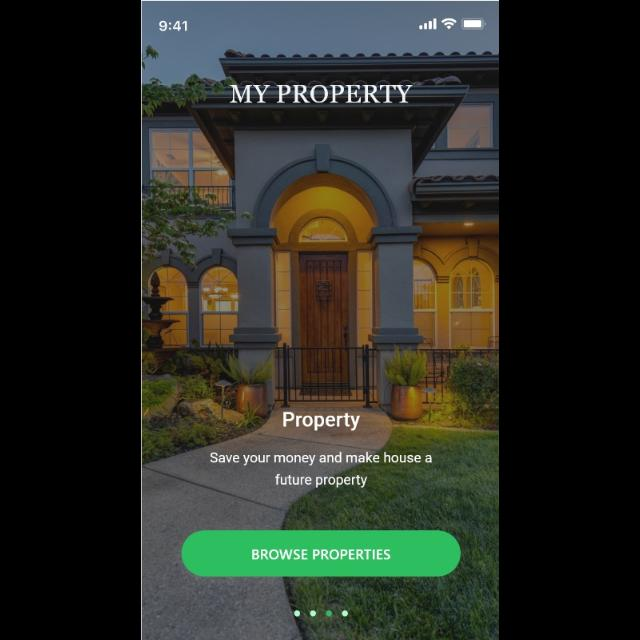backgroundimage: (142, 1, 500, 640)
pageindicator: (294, 610, 350, 618)
text: (211, 452, 433, 488), (231, 86, 414, 104), (284, 412, 361, 432)
textbutton: (183, 530, 462, 576)
uppertaskbar: (159, 19, 486, 33)
